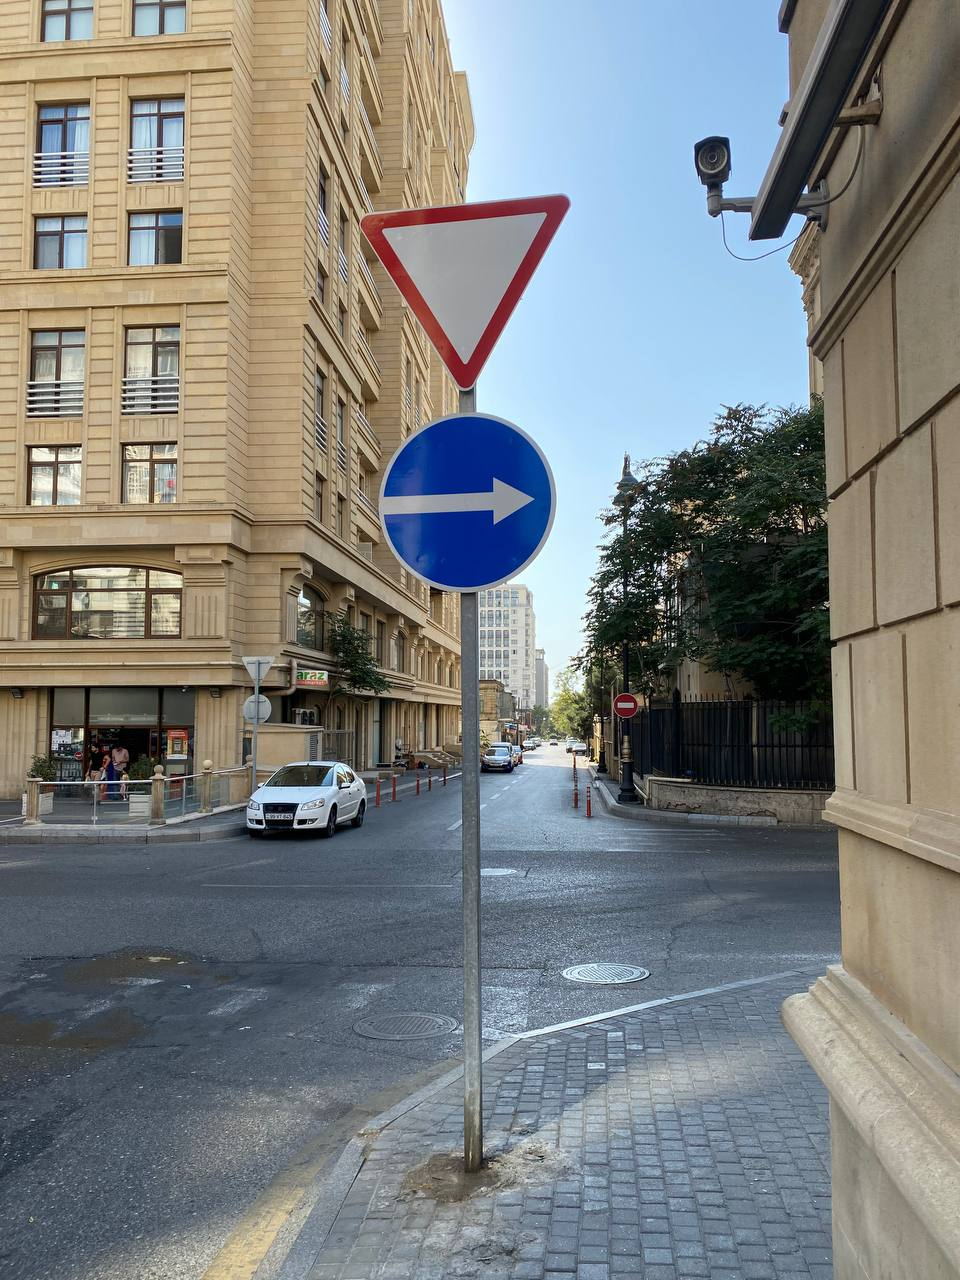Give Way: (358, 193, 571, 390)
Turn Right: (377, 412, 557, 593)
